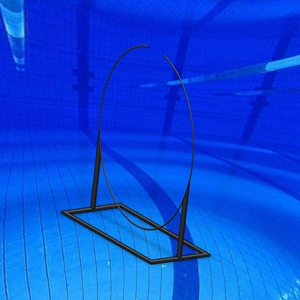circle: (60, 44, 213, 266)
